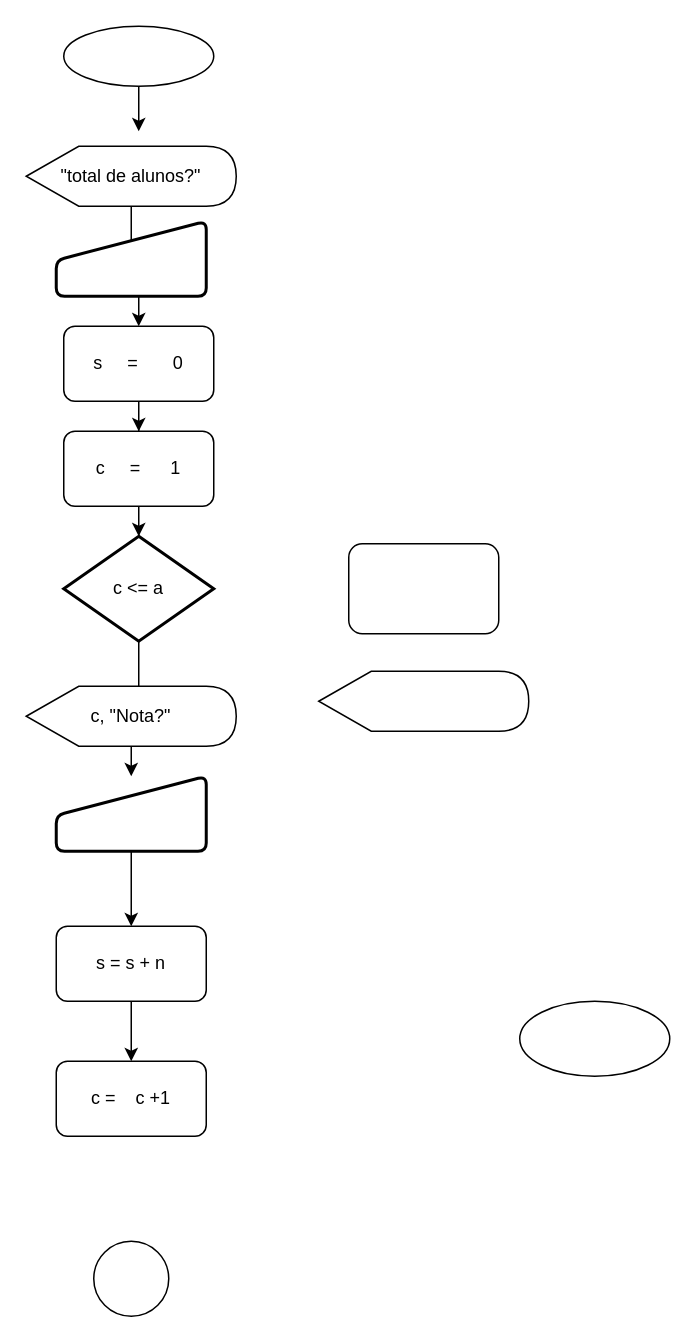
Image size: 696x1343. Some labels were removed from this diagram. Here are the shapes that lost their labels. From the top down, the centre of each, then its label:
[138,55]: inicio
[130,258]: alunos
[423,588]: m = s/a
[130,813]: nota
